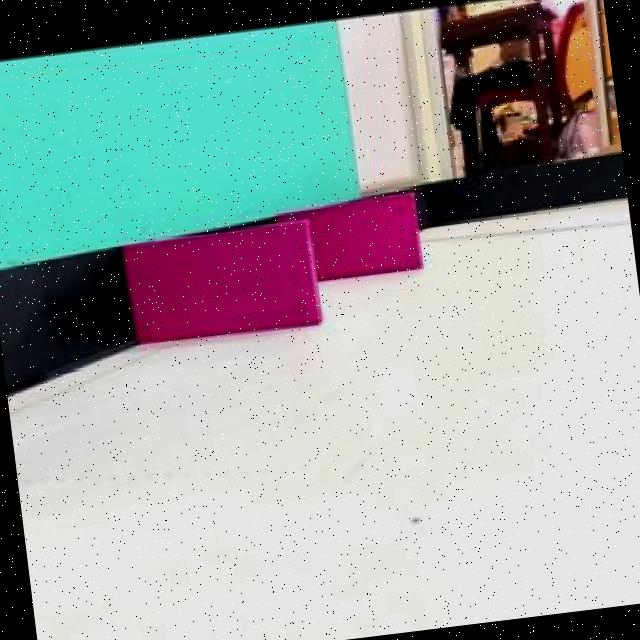xparking: (125, 225, 318, 348), (309, 198, 419, 281)
